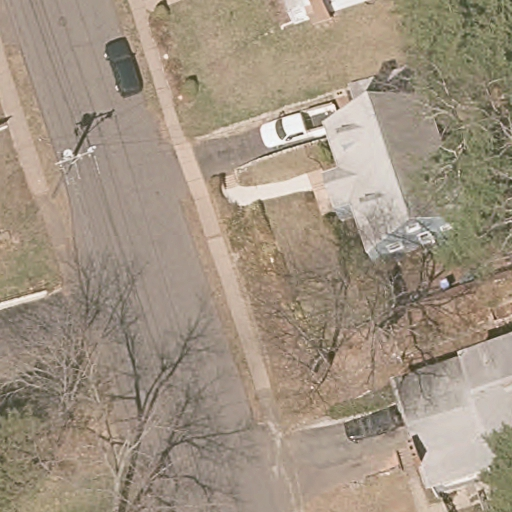DT: (54, 144, 100, 186)
